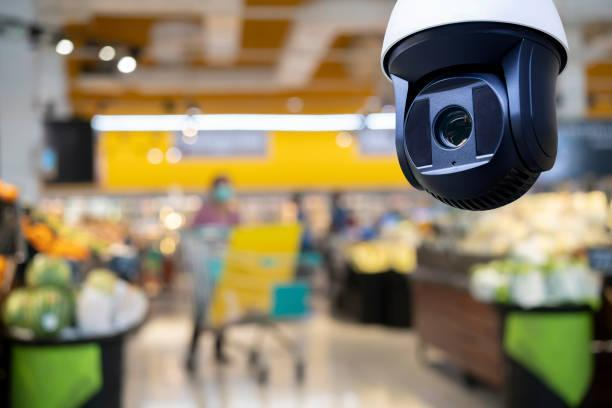camera: (373, 0, 576, 221)
